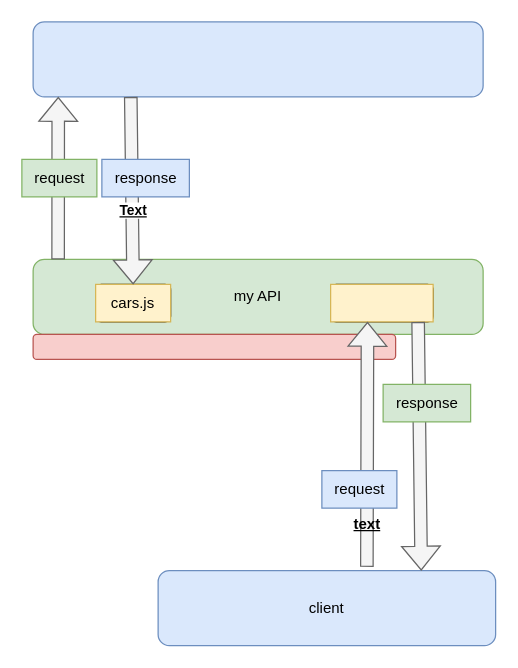
Some shapes in this 518 by 668 pixel diagram are drawn without their labels. The shapes that lost their labels are listed below. From the top down, each one's centre as x and y in pixels, then its label:
At point (257, 59): "cars API".
At point (381, 302): "log.txt".
At point (214, 346): "middleware".
